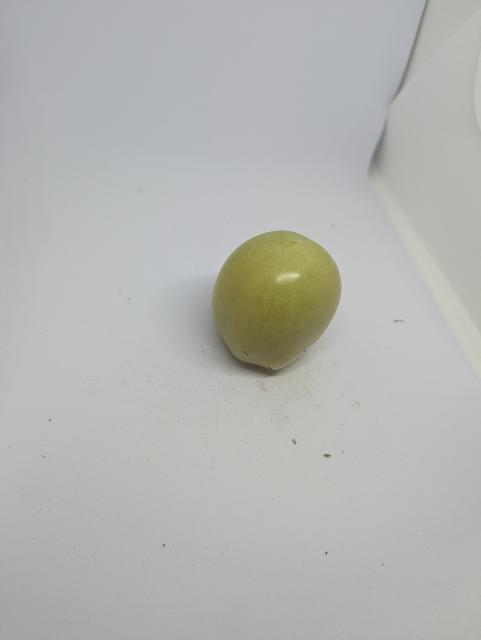green: (210, 227, 346, 375)
